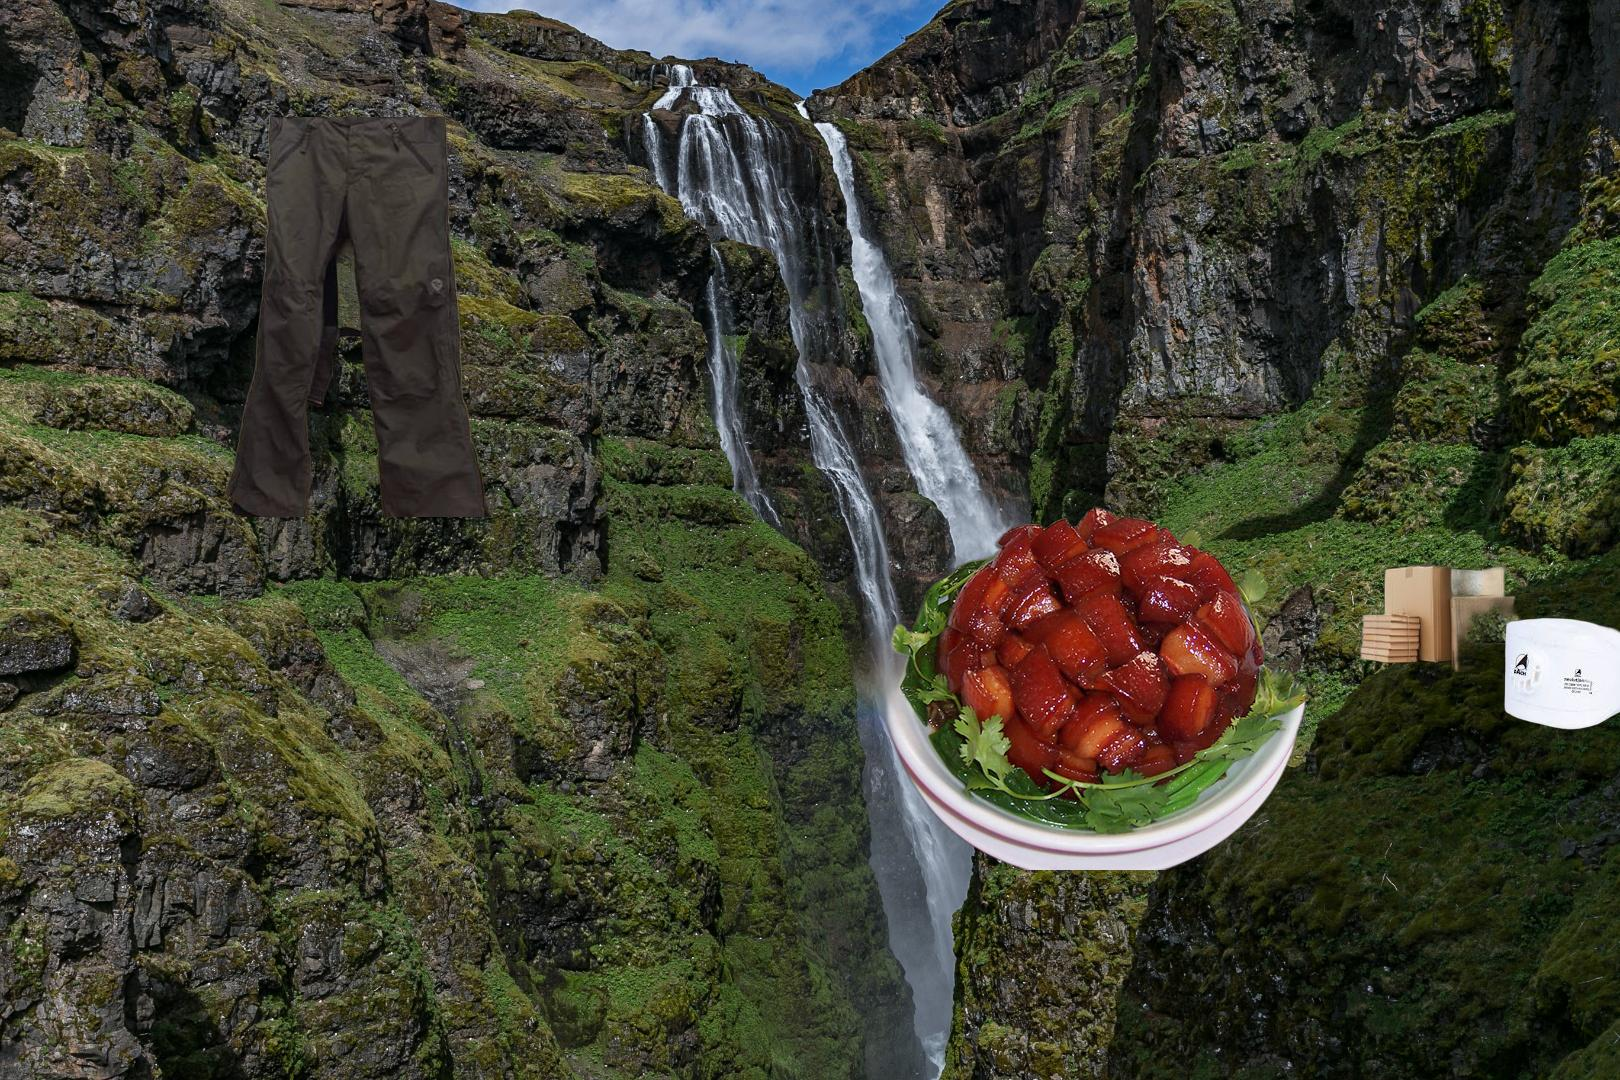biological: (846, 501, 1311, 870)
clothes: (223, 117, 533, 517)
trash: (1501, 575, 1620, 732)
trashbox-cardboard: (1356, 556, 1563, 721)
